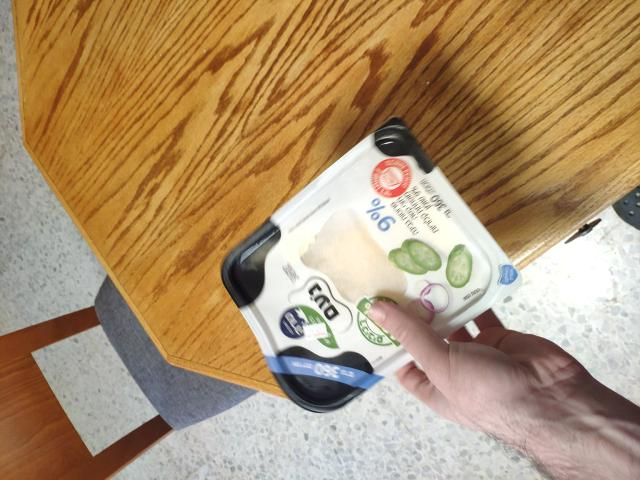cheese: (219, 141, 471, 419)
